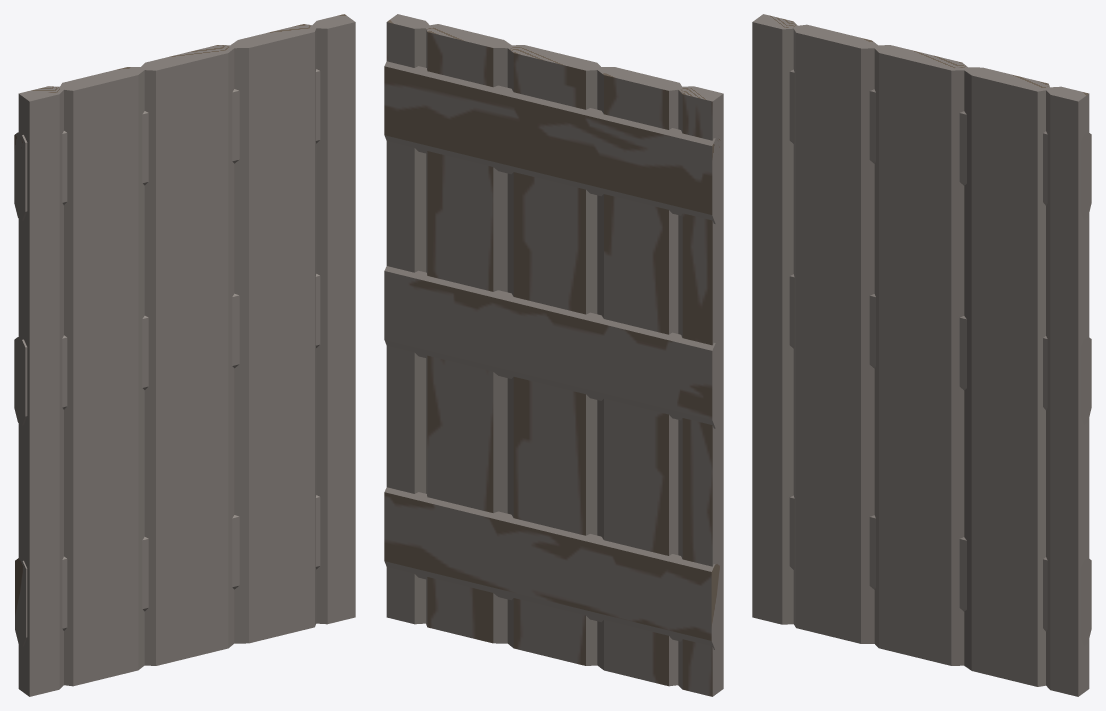
File: Bld_BackDoor_01.fbx
The picture shows the model from 3 angles, left to right: view 1: azimuth 30°, elevation 25°; view 2: azimuth 150°, elevation 25°; view 3: azimuth 330°, elevation 25°; orthographic projection.
Visible parts, largest first — view 1: Bld_BackDoor_01; view 2: Bld_BackDoor_01; view 3: Bld_BackDoor_01.
Boxes of the visible parts, bbox=[...] form: Bld_BackDoor_01: bbox=[14, 14, 355, 696]; Bld_BackDoor_01: bbox=[384, 14, 723, 696]; Bld_BackDoor_01: bbox=[752, 14, 1091, 696].
Size of the model in its own units: 122 by 211 by 8.51.
